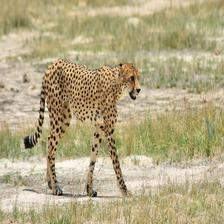Cheetah: (19, 57, 144, 196)
